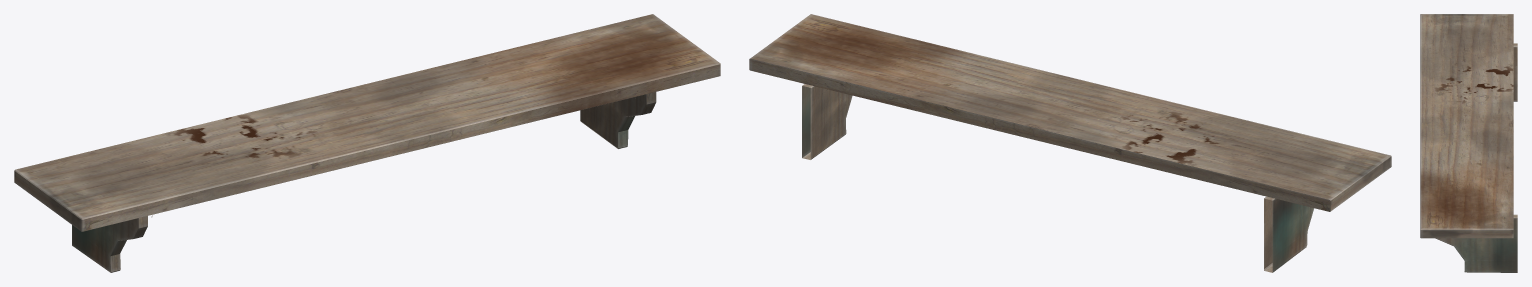
Rendered from Workplace_Shelf.fbx.
The picture shows the model from 3 angles, left to right: view 1: azimuth 30°, elevation 25°; view 2: azimuth 150°, elevation 25°; view 3: azimuth 270°, elevation 25°; orthographic projection. The views are drawn at different scales.
Visible parts, largest first — view 1: Shelf_Top, Shelf_Bottom; view 2: Shelf_Top, Shelf_Bottom; view 3: Shelf_Top, Shelf_Bottom.
Part boxes in pixels (bbox=[...]): Shelf_Top: bbox=[14, 14, 720, 231]; Shelf_Bottom: bbox=[72, 92, 656, 272]; Shelf_Top: bbox=[749, 14, 1391, 211]; Shelf_Bottom: bbox=[802, 84, 1313, 272]; Shelf_Top: bbox=[1420, 14, 1513, 238]; Shelf_Bottom: bbox=[1435, 43, 1517, 272].
Size of the model in its own units: 106 by 14.75 by 20.29.
Materials: 2 (2 with a texture image).
